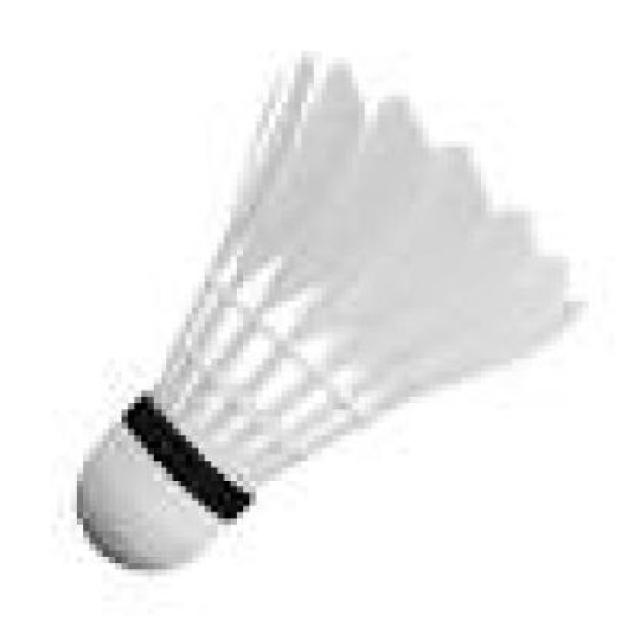Shuttlecock: (76, 52, 590, 574)
